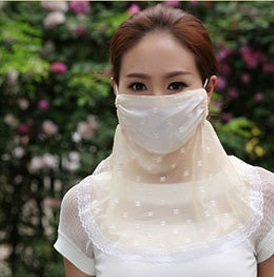face_mask: (116, 34, 203, 152)
